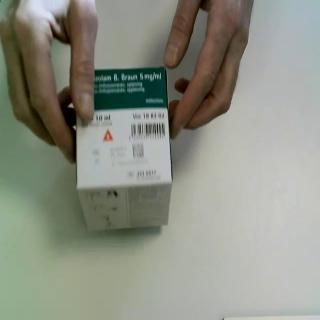midazolam5mg_ml: (74, 64, 176, 234)
